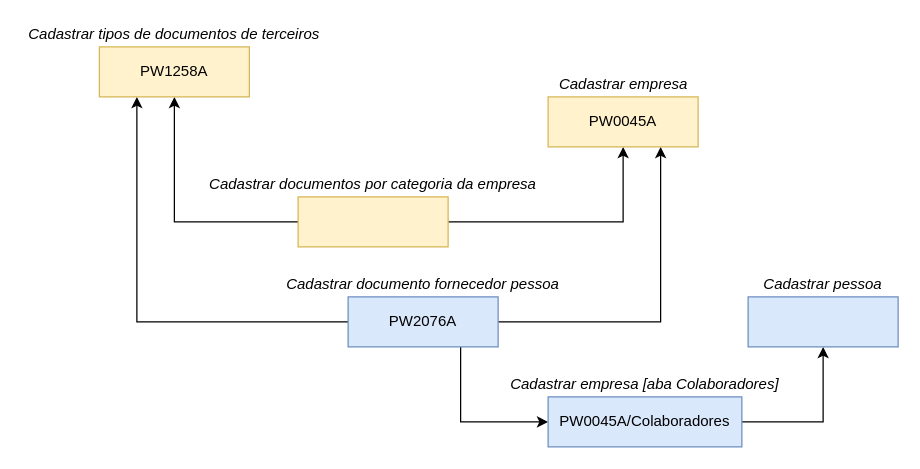
Image size: 920x469. Some labels were removed from this diagram. The centre of each missing label's shape, as x and y in pixels:
"PW0100A" goes at (822,321).
"PW1953A" goes at (372,221).
